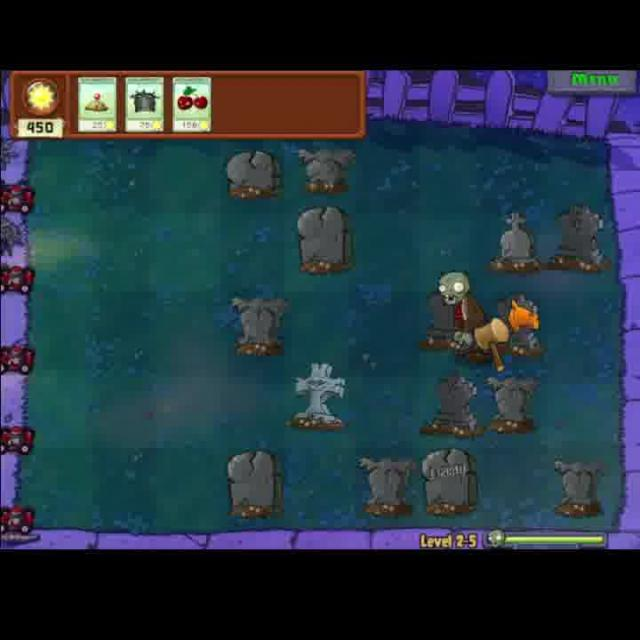coins: (440, 264, 494, 367)
